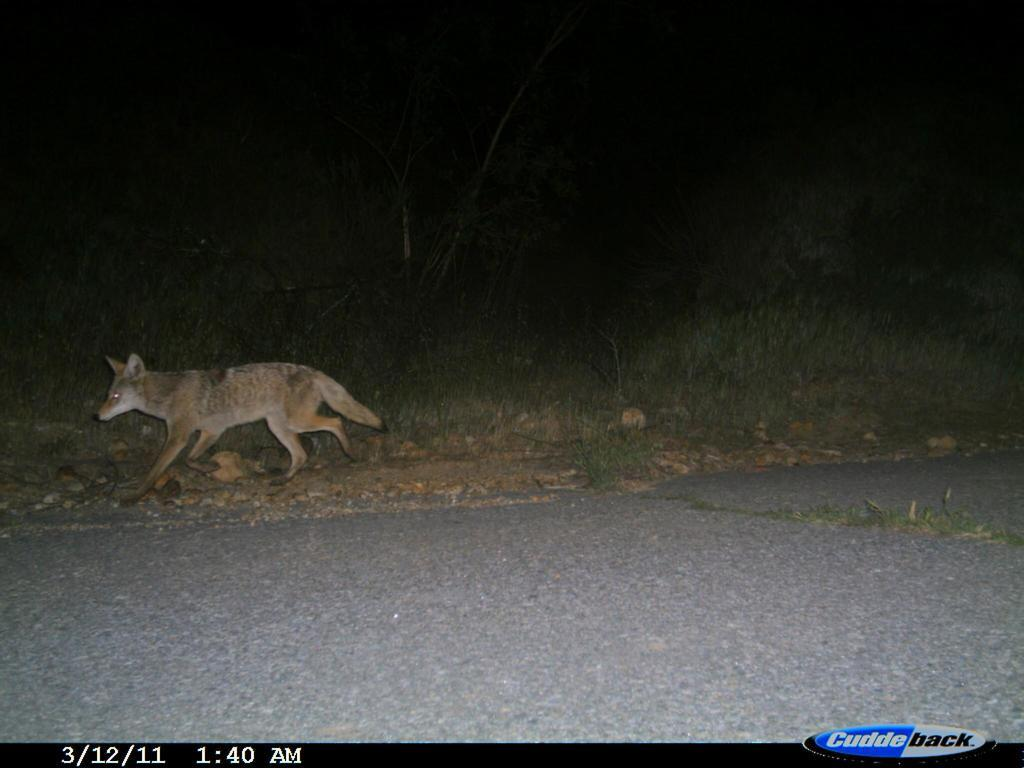coyote: (94, 351, 391, 509)
